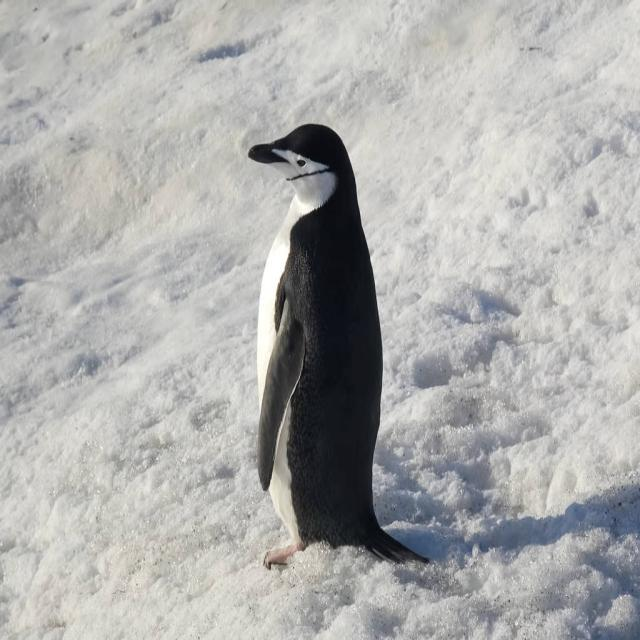Penguins: (242, 113, 403, 581)
